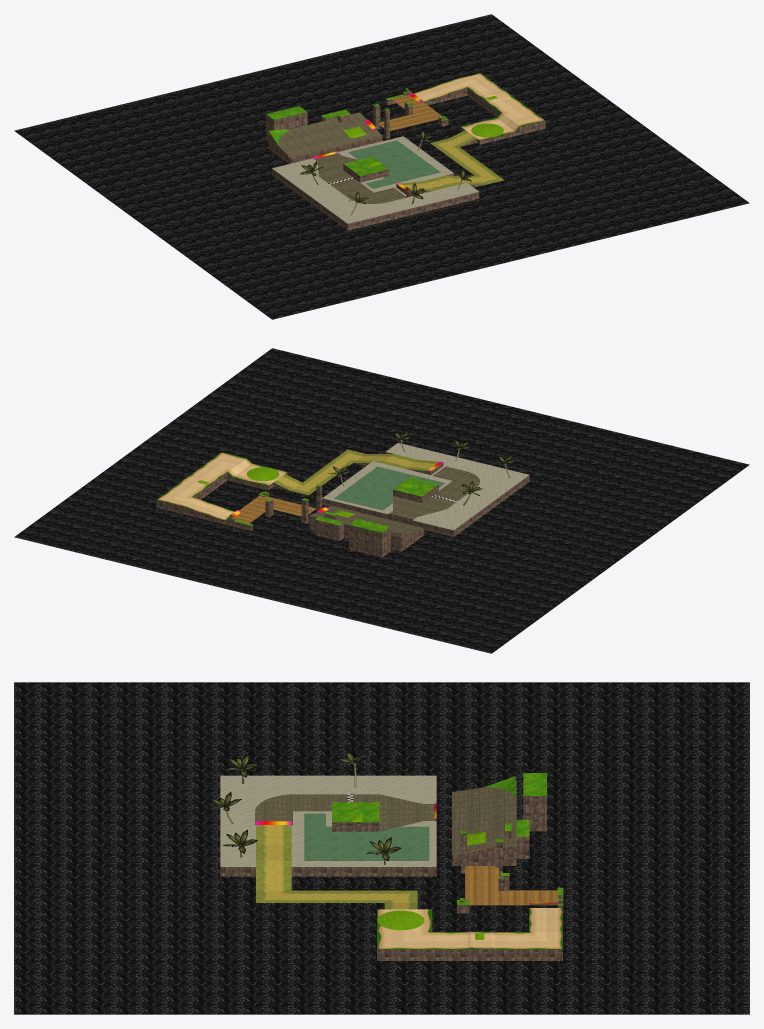
The picture shows the model from 3 angles, top to bottom: view 1: azimuth 30°, elevation 25°; view 2: azimuth 150°, elevation 25°; view 3: azimuth 270°, elevation 25°; orthographic projection. The views are drawn at different scales.
Visible parts, largest first — view 1: Island_of_Hope__Shoobity_Boop__SKP__Material1.001, Island_of_Hope__Shoobity_Boop__SKP__Material6.001, Island_of_Hope__Shoobity_Boop__SKP__Material3.001, Island_of_Hope__Shoobity_Boop__SKP__Material7.001, Island_of_Hope__Shoobity_Boop__SKP__Material10.001, Island_of_Hope__Shoobity_Boop__SKP__Material4.001, Island_of_Hope__Shoobity_Boop__SKP__Material9.001, Island_of_Hope__Shoobity_Boop__SKP__Material5.001, Island_of_Hope__Shoobity_Boop__SKP__Material2.001, Island_of_Hope__Shoobity_Boop__SKP__SHI_PalmTree.001, Island_of_Hope__Shoobity_Boop__SKP__Material8.001; view 2: Island_of_Hope__Shoobity_Boop__SKP__Material1.001, Island_of_Hope__Shoobity_Boop__SKP__Material6.001, Island_of_Hope__Shoobity_Boop__SKP__Material3.001, Island_of_Hope__Shoobity_Boop__SKP__Material7.001, Island_of_Hope__Shoobity_Boop__SKP__Material10.001, Island_of_Hope__Shoobity_Boop__SKP__Material9.001, Island_of_Hope__Shoobity_Boop__SKP__Material4.001, Island_of_Hope__Shoobity_Boop__SKP__Material5.001, Island_of_Hope__Shoobity_Boop__SKP__Material2.001, Island_of_Hope__Shoobity_Boop__SKP__SHI_PalmTree.001, Island_of_Hope__Shoobity_Boop__SKP__Material8.001; view 3: Island_of_Hope__Shoobity_Boop__SKP__Material1.001, Island_of_Hope__Shoobity_Boop__SKP__Material3.001, Island_of_Hope__Shoobity_Boop__SKP__Material6.001, Island_of_Hope__Shoobity_Boop__SKP__Material7.001, Island_of_Hope__Shoobity_Boop__SKP__Material10.001, Island_of_Hope__Shoobity_Boop__SKP__Material9.001, Island_of_Hope__Shoobity_Boop__SKP__Material4.001, Island_of_Hope__Shoobity_Boop__SKP__Material5.001, Island_of_Hope__Shoobity_Boop__SKP__Material2.001, Island_of_Hope__Shoobity_Boop__SKP__SHI_PalmTree.001, Island_of_Hope__Shoobity_Boop__SKP__Material8.001.
Boxes of the visible parts, left/top/right/bottom form: Island_of_Hope__Shoobity_Boop__SKP__Material1.001: left=14, top=14, right=749, bottom=319; Island_of_Hope__Shoobity_Boop__SKP__Material6.001: left=266, top=88, right=545, bottom=230; Island_of_Hope__Shoobity_Boop__SKP__Material3.001: left=272, top=136, right=478, bottom=223; Island_of_Hope__Shoobity_Boop__SKP__Material7.001: left=279, top=112, right=406, bottom=203; Island_of_Hope__Shoobity_Boop__SKP__Material10.001: left=413, top=73, right=545, bottom=140; Island_of_Hope__Shoobity_Boop__SKP__Material4.001: left=348, top=140, right=440, bottom=188; Island_of_Hope__Shoobity_Boop__SKP__Material9.001: left=401, top=130, right=504, bottom=191; Island_of_Hope__Shoobity_Boop__SKP__Material5.001: left=266, top=88, right=448, bottom=175; Island_of_Hope__Shoobity_Boop__SKP__Material2.001: left=378, top=95, right=442, bottom=131; Island_of_Hope__Shoobity_Boop__SKP__SHI_PalmTree.001: left=300, top=130, right=474, bottom=215; Island_of_Hope__Shoobity_Boop__SKP__Material8.001: left=343, top=96, right=503, bottom=166; Island_of_Hope__Shoobity_Boop__SKP__Material1.001: left=14, top=348, right=749, bottom=653; Island_of_Hope__Shoobity_Boop__SKP__Material6.001: left=156, top=452, right=529, bottom=557; Island_of_Hope__Shoobity_Boop__SKP__Material3.001: left=322, top=442, right=529, bottom=530; Island_of_Hope__Shoobity_Boop__SKP__Material7.001: left=310, top=466, right=479, bottom=533; Island_of_Hope__Shoobity_Boop__SKP__Material10.001: left=157, top=452, right=286, bottom=520; Island_of_Hope__Shoobity_Boop__SKP__Material9.001: left=273, top=449, right=438, bottom=495; Island_of_Hope__Shoobity_Boop__SKP__Material4.001: left=334, top=466, right=444, bottom=510; Island_of_Hope__Shoobity_Boop__SKP__Material5.001: left=225, top=477, right=438, bottom=532; Island_of_Hope__Shoobity_Boop__SKP__Material2.001: left=234, top=496, right=316, bottom=523; Island_of_Hope__Shoobity_Boop__SKP__SHI_PalmTree.001: left=328, top=431, right=516, bottom=505; Island_of_Hope__Shoobity_Boop__SKP__Material8.001: left=197, top=467, right=412, bottom=517; Island_of_Hope__Shoobity_Boop__SKP__Material1.001: left=14, top=682, right=749, bottom=1014; Island_of_Hope__Shoobity_Boop__SKP__Material3.001: left=220, top=775, right=436, bottom=866; Island_of_Hope__Shoobity_Boop__SKP__Material6.001: left=220, top=778, right=563, bottom=960; Island_of_Hope__Shoobity_Boop__SKP__Material7.001: left=255, top=787, right=516, bottom=855; Island_of_Hope__Shoobity_Boop__SKP__Material10.001: left=377, top=908, right=562, bottom=949; Island_of_Hope__Shoobity_Boop__SKP__Material9.001: left=256, top=825, right=417, bottom=909; Island_of_Hope__Shoobity_Boop__SKP__Material4.001: left=304, top=813, right=429, bottom=860; Island_of_Hope__Shoobity_Boop__SKP__Material5.001: left=332, top=773, right=563, bottom=905; Island_of_Hope__Shoobity_Boop__SKP__Material2.001: left=465, top=866, right=557, bottom=905; Island_of_Hope__Shoobity_Boop__SKP__SHI_PalmTree.001: left=207, top=751, right=401, bottom=864; Island_of_Hope__Shoobity_Boop__SKP__Material8.001: left=352, top=815, right=485, bottom=939.
Bounding box in the file's own units: 108634 × 6265 × 101754.
14 materials, 13 textured.
